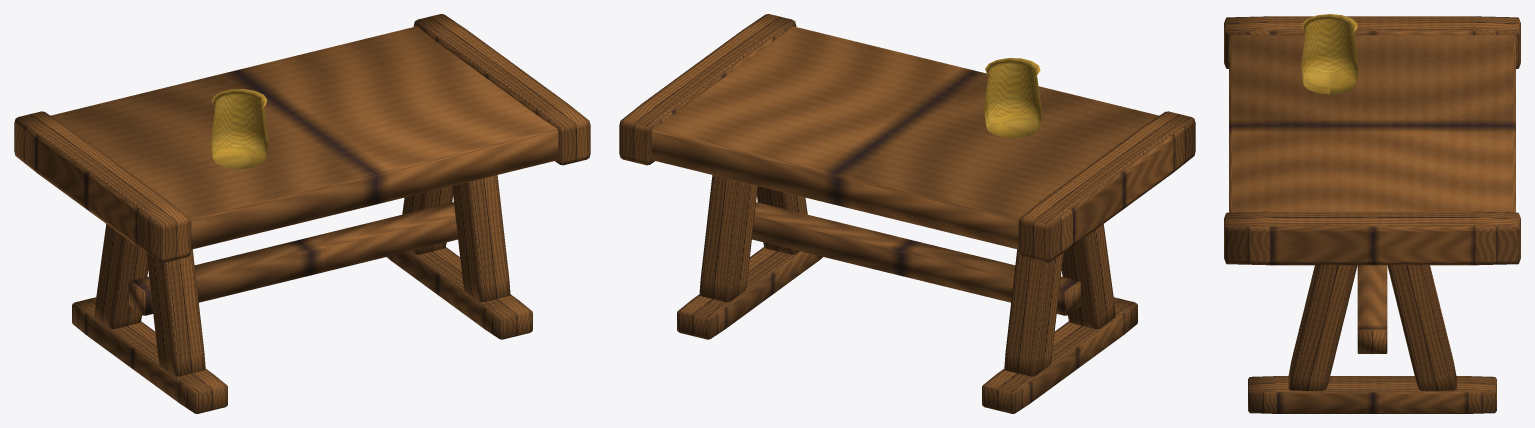
Rendered from table.glb.
3 renders of one model, left to right at view 1: azimuth 30°, elevation 25°; view 2: azimuth 150°, elevation 25°; view 3: azimuth 270°, elevation 25°, orthographic.
Visible parts, largest first — view 1: TavernTable; view 2: TavernTable; view 3: TavernTable.
Boxes of the visible parts, x1,y1,x2,y2 form: TavernTable: (14,14,590,413); TavernTable: (619,14,1195,413); TavernTable: (1224,14,1520,413).
Size of the model in its own units: 41.2 by 24.1 by 24.4.
3 materials, 3 textured.
